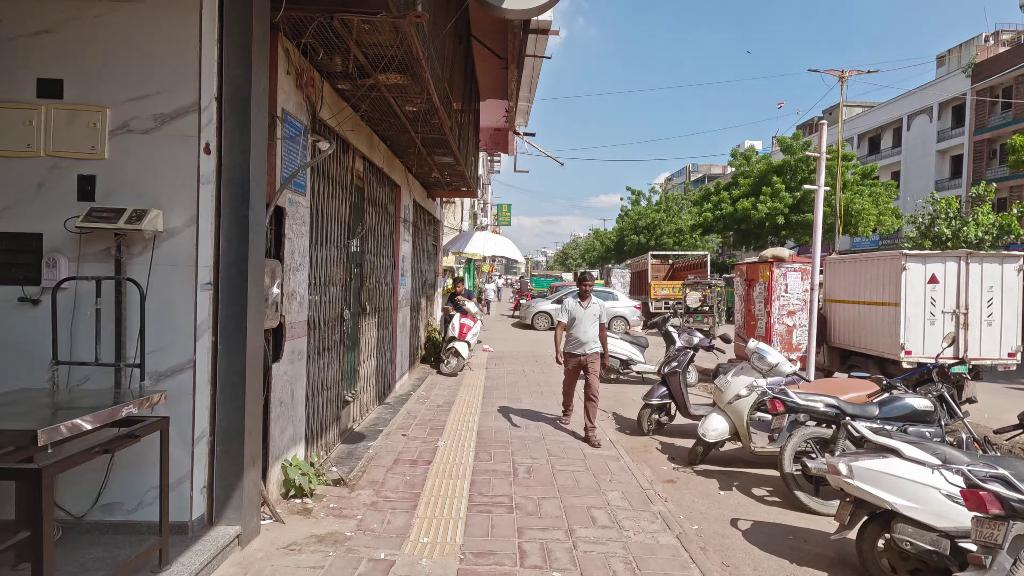garbage: (480, 343, 493, 351)
